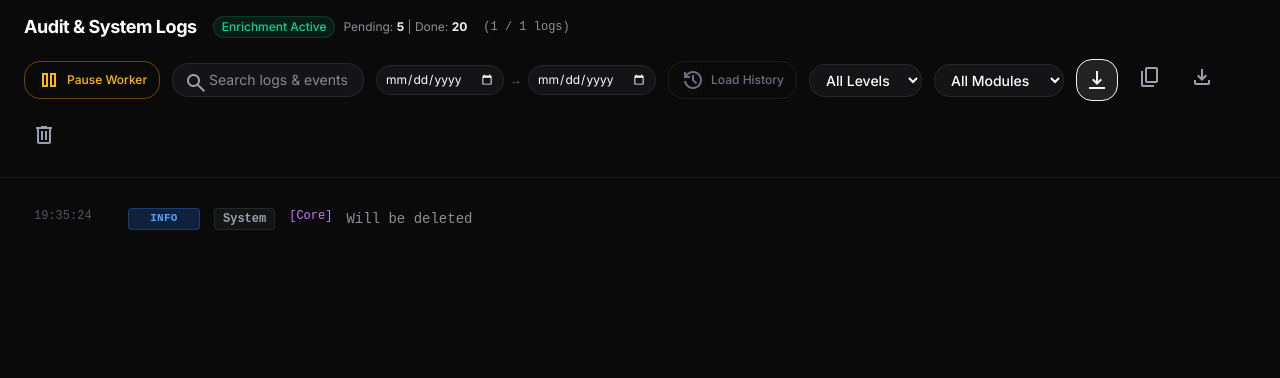
it: LogsView.vue › clears displayed logs when clicking delete button
The width and height of the screenshot is (1280, 378).
Click the button named "Clear system and console logs" at {"x": 44, "y": 138}, box [24, 115, 64, 161]
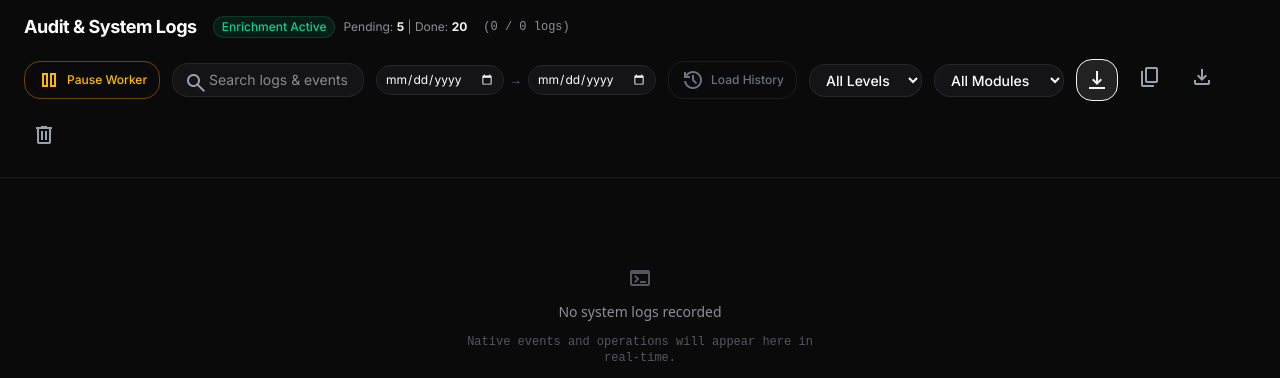
Check: the text "No system logs recorded" is shown, box [558, 302, 722, 322]
Check: the text "Will be deleted" is gone
